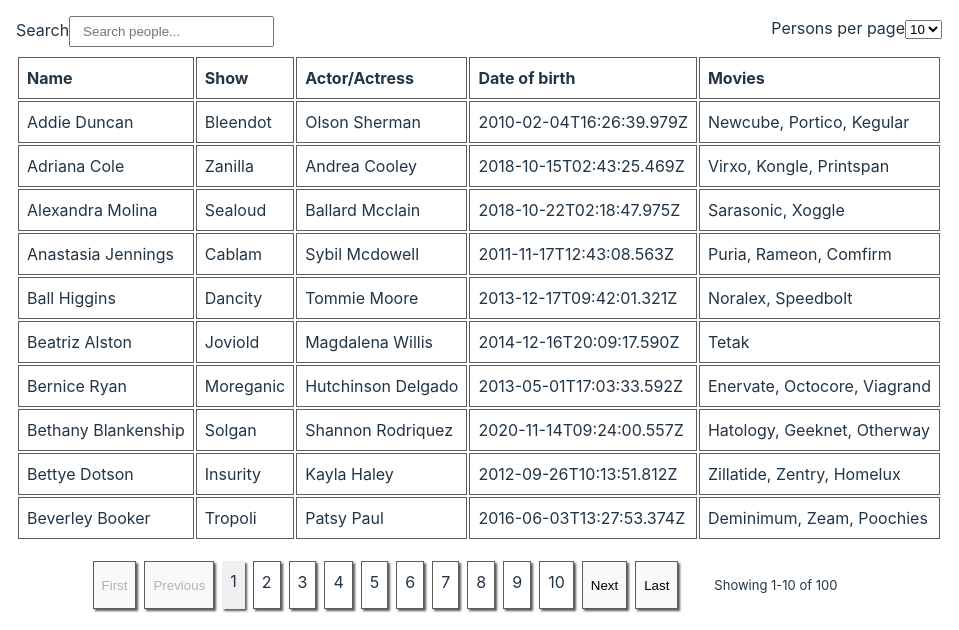
Test: People › Pagination › should go the previous page
Expected: the text "Showing 1-10 of 100" is shown, x1=714 y1=577 x2=838 y2=593
Click the button "Next" at (604, 585), box x1=582 y1=561 x2=627 y2=609
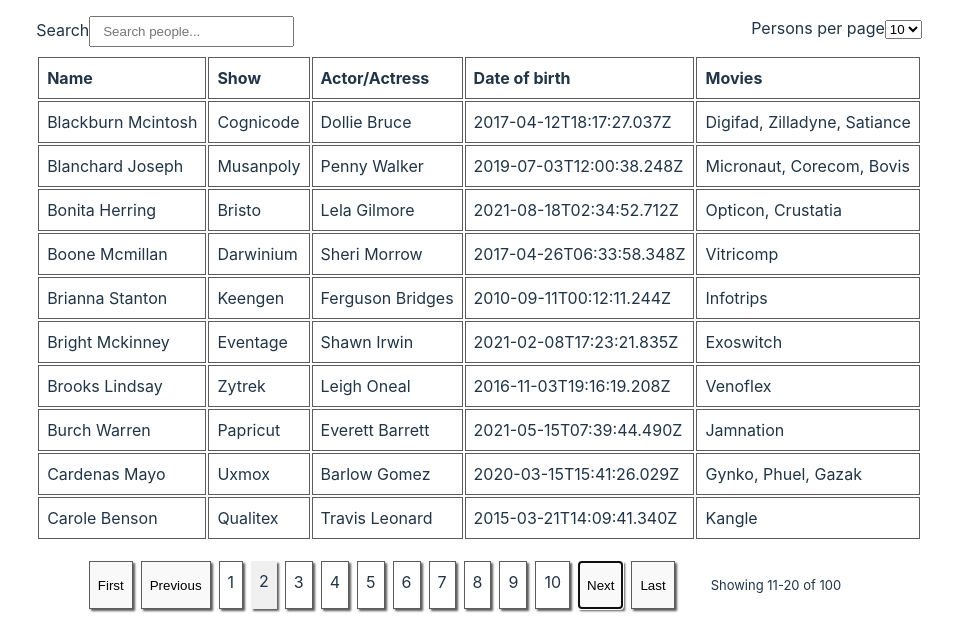
Now the text "Showing 11-20 of 100" is shown, box x1=711 y1=577 x2=841 y2=593
Click the button "Previous" at (176, 585), box x1=141 y1=561 x2=211 y2=609
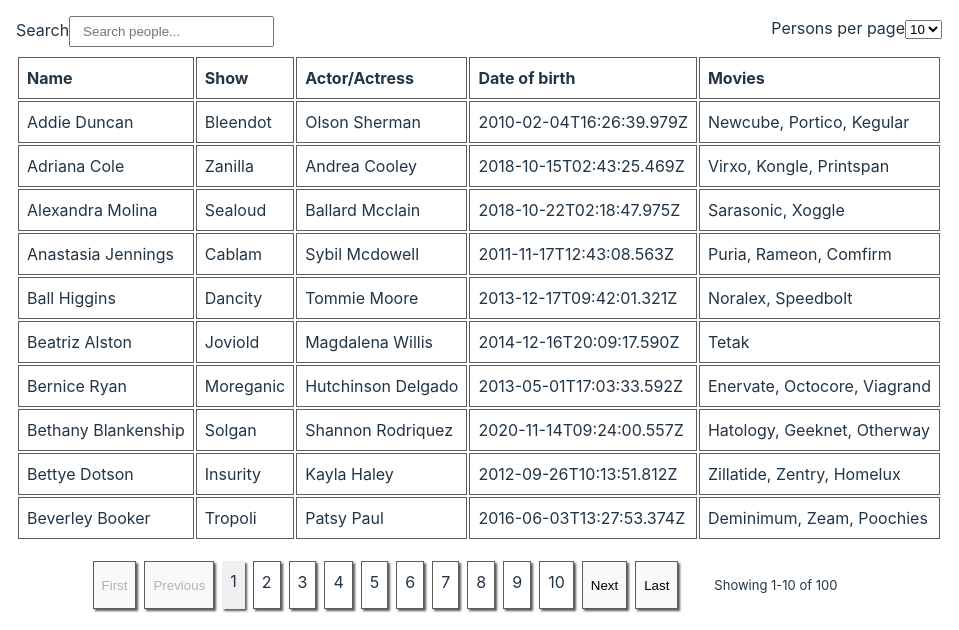
Now the text "Showing 1-10 of 100" is shown, box x1=714 y1=577 x2=838 y2=593
